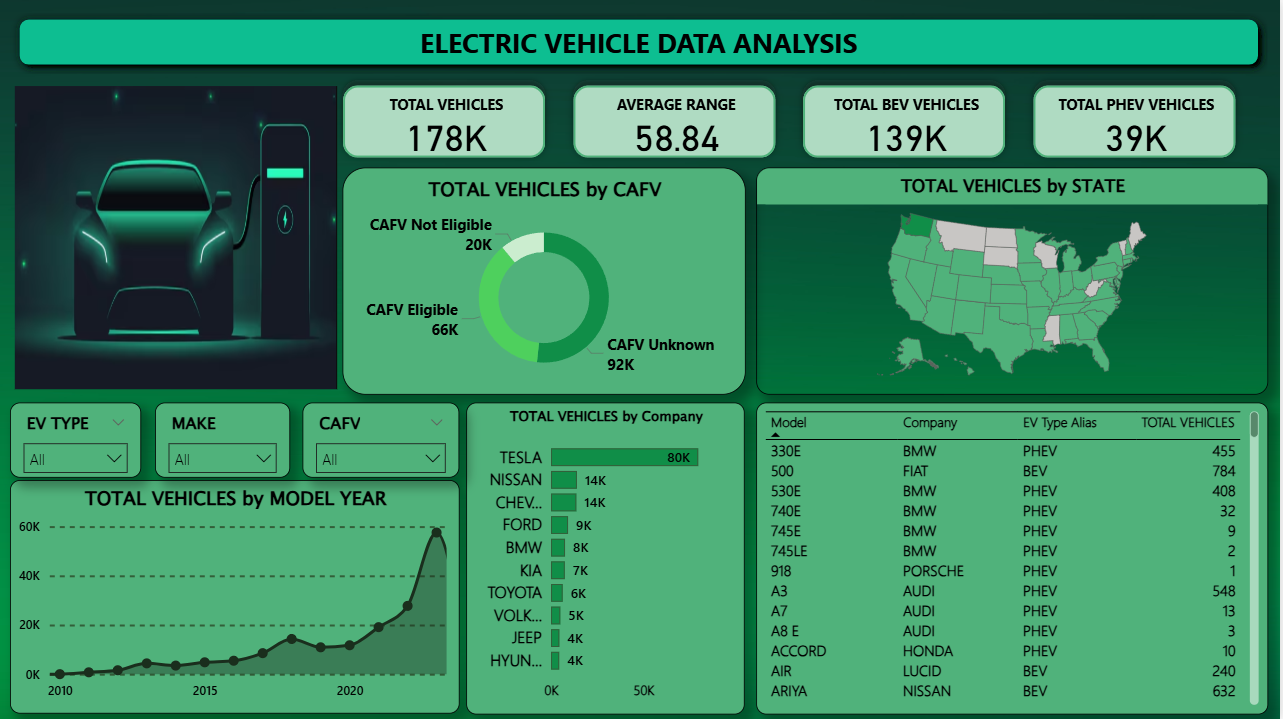

This screenshot's page, from the dashboard's own definition file:
{"tool":"powerbi","page":{"name":"Page 1","canvas":[1280,720],"ordinal":0},"visuals":[{"type":"shape","box":[9.7,9.7,1257.6,64.2],"z":0},{"type":"cardVisual","fields":{"Data":["Electric Vehicle Data Analysis.TOTAL VEHICLES","Electric Vehicle Data Analysis.AVERAGE RANGE","Electric Vehicle Data Analysis.TOTAL BEV VEHICLES","Electric Vehicle Data Analysis.TOTAL PHEV VEHICLES"]},"box":[326.8,68.2,928.3,106.8],"z":1000},{"type":"donutChart","title":"TOTAL VEHICLES by CAFV ","fields":{"Category":["Electric Vehicle Data Analysis.CAFV ALIAS"],"Y":["Electric Vehicle Data Analysis.TOTAL VEHICLES"]},"box":[342,167,403.1,227.1],"z":2000},{"type":"shapeMap","title":"TOTAL VEHICLES by STATE","fields":{"Category":["Electric Vehicle Data Analysis.State"],"Value":["Electric Vehicle Data Analysis.TOTAL VEHICLES"]},"box":[755.9,167,511.7,227.1],"z":3000},{"type":"lineChart","title":"TOTAL VEHICLES by MODEL YEAR","fields":{"Category":["Electric Vehicle Data Analysis.Model Year"],"Y":["Electric Vehicle Data Analysis.TOTAL VEHICLES"]},"box":[9.9,480.3,449.8,233.4],"z":4000},{"type":"clusteredBarChart","title":"TOTAL VEHICLES by Company","fields":{"Category":["Electric Vehicle Data Analysis.Make"],"Y":["Electric Vehicle Data Analysis.TOTAL VEHICLES"]},"box":[466.3,402.5,278.5,311.7],"z":5000},{"type":"tableEx","fields":{"Values":["Electric Vehicle Data Analysis.Model","Electric Vehicle Data Analysis.Make","Electric Vehicle Data Analysis.EV Type Alias","Electric Vehicle Data Analysis.TOTAL VEHICLES"]},"box":[755.8,402.5,511.7,311.7],"z":6000},{"type":"slicer","fields":{"Values":["Electric Vehicle Data Analysis.EV Type Alias"]},"box":[9.9,402.2,131.1,75.4],"z":7000},{"type":"slicer","fields":{"Values":["Electric Vehicle Data Analysis.Make"]},"box":[154.4,402.2,135.6,75.4],"z":8000},{"type":"slicer","fields":{"Values":["Electric Vehicle Data Analysis.CAFV ALIAS"]},"box":[302.5,402.2,157.1,75.4],"z":9000},{"type":"image","box":[9.9,80.8,332.2,313.3],"z":10000}]}

Visuals, with their boxes in screenshot pixels (x1, y1, x2, y2), scaled from the page's 1280x720 canvas onto the 1283x719 screenshot:
shape: Rect(10, 10, 1270, 74)
cardVisual - Electric Vehicle Data Analysis.TOTAL VEHICLES x Electric Vehicle Data Analysis.AVERAGE RANGE: Rect(328, 68, 1258, 175)
"TOTAL VEHICLES by CAFV " donutChart: Rect(343, 167, 747, 394)
"TOTAL VEHICLES by STATE" shapeMap: Rect(758, 167, 1271, 394)
"TOTAL VEHICLES by MODEL YEAR" lineChart: Rect(10, 480, 461, 713)
"TOTAL VEHICLES by Company" clusteredBarChart: Rect(467, 402, 747, 713)
tableEx - Electric Vehicle Data Analysis.Model x Electric Vehicle Data Analysis.Make: Rect(758, 402, 1270, 713)
slicer - Electric Vehicle Data Analysis.EV Type Alias: Rect(10, 402, 141, 477)
slicer - Electric Vehicle Data Analysis.Make: Rect(155, 402, 291, 477)
slicer - Electric Vehicle Data Analysis.CAFV ALIAS: Rect(303, 402, 461, 477)
image: Rect(10, 81, 343, 394)
